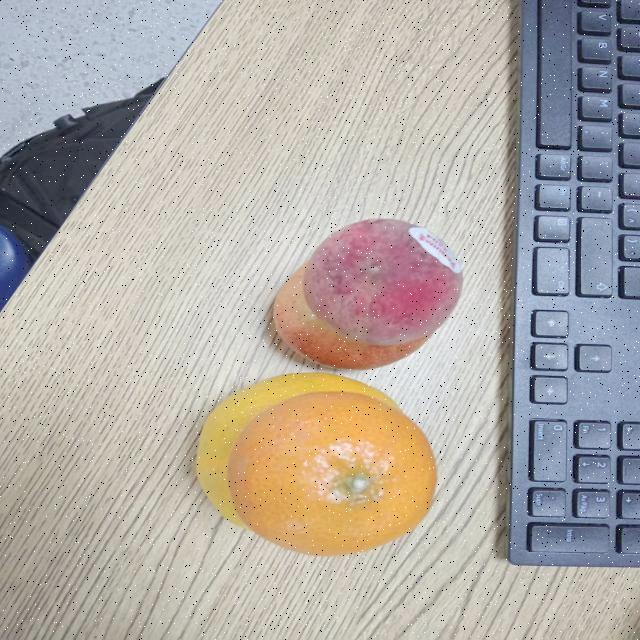Apel Gala: (262, 252, 442, 372)
Jeruk: (192, 370, 414, 535)
Jeruk Mandarin: (224, 387, 444, 564)
Persik: (295, 211, 473, 352)
